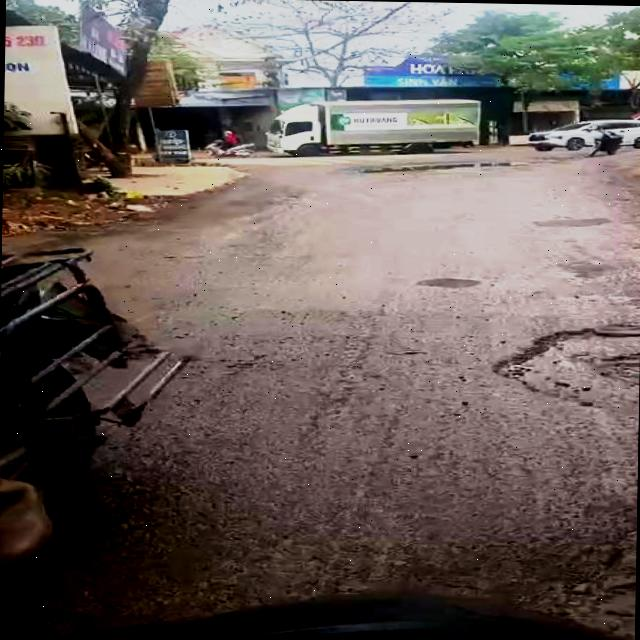pothole: (499, 314, 640, 419)
